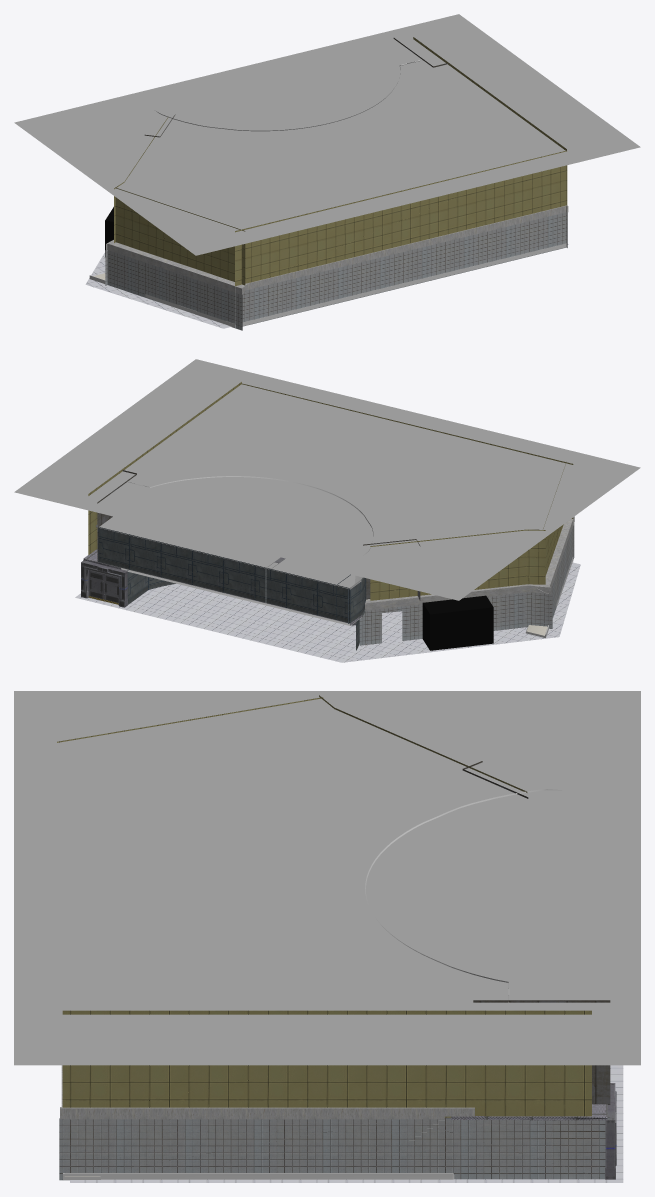
Rendered from Building.fbx.
3 renders of one model, top to bottom at view 1: azimuth 30°, elevation 25°; view 2: azimuth 150°, elevation 25°; view 3: azimuth 270°, elevation 25°, orthographic. The views are drawn at different scales.
Visible parts, largest first — view 1: pPlane14, pPlane10, pPlane5, polySurface506, pCube15, polySurface519, pPlane11, pPlane7; view 2: pPlane14, pPlane11, pPlane6, polySurface498, polySurface516, pCube34, polySurface515, polySurface506, polySurface414, polySurface514, polySurface489, pPlane7 (+4 smaller); view 3: pPlane14, pPlane1, pPlane7, pCube30, pPlane11, polySurface519, polySurface433, polySurface414, polySurface489, polySurface499.
Part boxes in pixels (box(x1,y1,x2,y2)): pPlane14: box(14, 14, 640, 255); pPlane10: box(235, 150, 567, 286); pPlane5: box(235, 212, 566, 327); polySurface506: box(107, 187, 247, 330); pCube15: box(234, 205, 566, 292); polySurface519: box(89, 243, 566, 327); pPlane11: box(85, 244, 568, 328); pPlane7: box(413, 37, 566, 205); pPlane14: box(14, 359, 640, 600); pPlane11: box(75, 562, 580, 662); pPlane6: box(98, 527, 350, 623); polySurface498: box(96, 516, 363, 589); polySurface516: box(359, 592, 552, 645); pCube34: box(422, 595, 493, 650); polySurface515: box(370, 529, 545, 600); polySurface506: box(537, 462, 574, 628); polySurface414: box(81, 560, 127, 607); polySurface514: box(365, 583, 551, 610); polySurface489: box(83, 549, 365, 625); pPlane7: box(88, 382, 241, 554); pPlane14: box(14, 691, 640, 1065); pPlane1: box(59, 1117, 609, 1180); pPlane7: box(62, 1010, 591, 1117); pCube30: box(60, 1107, 474, 1119); pPlane11: box(70, 1065, 623, 1182); polySurface519: box(63, 1173, 454, 1179); polySurface433: box(473, 1000, 610, 1104); polySurface414: box(605, 1083, 616, 1179); polySurface489: box(450, 1104, 607, 1120); polySurface499: box(365, 789, 561, 1003).
Size of the model in its own units: 63.2 by 13.1 by 43.33.
